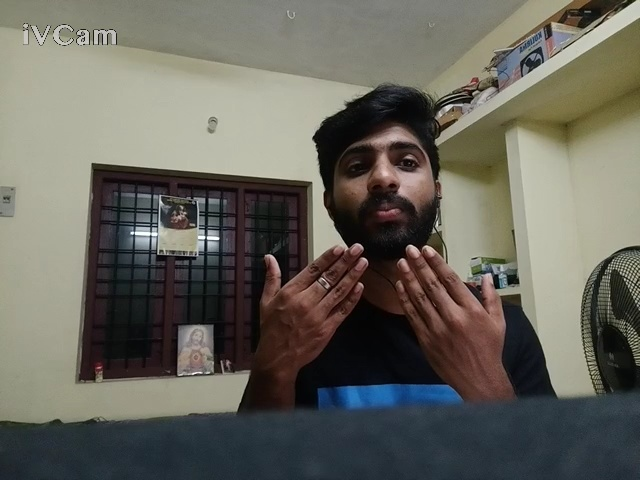Thank You: (255, 227, 507, 480)
